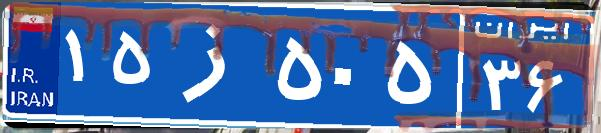0: (330, 28, 385, 110)
1: (57, 26, 110, 107)
3: (475, 38, 525, 113)
5: (385, 28, 445, 110), (273, 28, 330, 110), (110, 28, 158, 105)
6: (525, 38, 570, 115)
ز: (158, 15, 273, 115)
